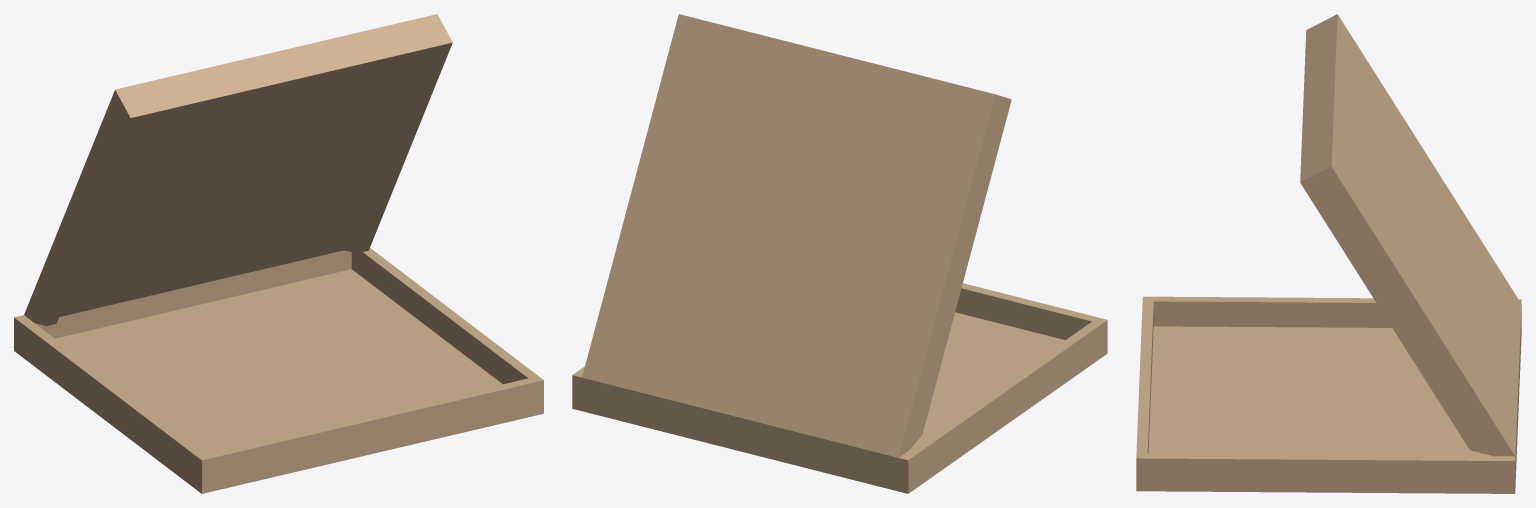
File: PizzaBox.fbx
3 renders of one model, left to right at view 1: azimuth 30°, elevation 25°; view 2: azimuth 150°, elevation 25°; view 3: azimuth 270°, elevation 25°, orthographic. The views are drawn at different scales.
Parts seen in each view (by area): view 1: pCube12, lid; view 2: lid, pCube12; view 3: pCube12, lid.
Part boxes in pixels (x1,y1,x2,y2): pCube12: (14,248,543,493); lid: (24,14,452,325); lid: (582,14,1011,457); pCube12: (572,283,1107,493); pCube12: (1136,296,1521,493); lid: (1300,14,1521,456).
Bounding box in the file's own units: 1.59 × 1.45 × 1.57.
